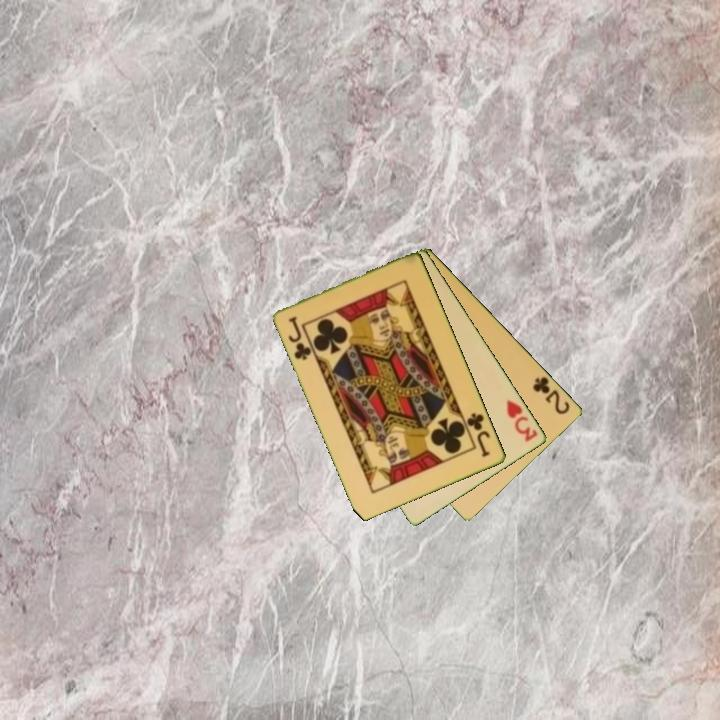2c: (529, 373, 573, 417)
3h: (503, 396, 541, 445)
Jc: (463, 409, 493, 460), (285, 313, 315, 363)
